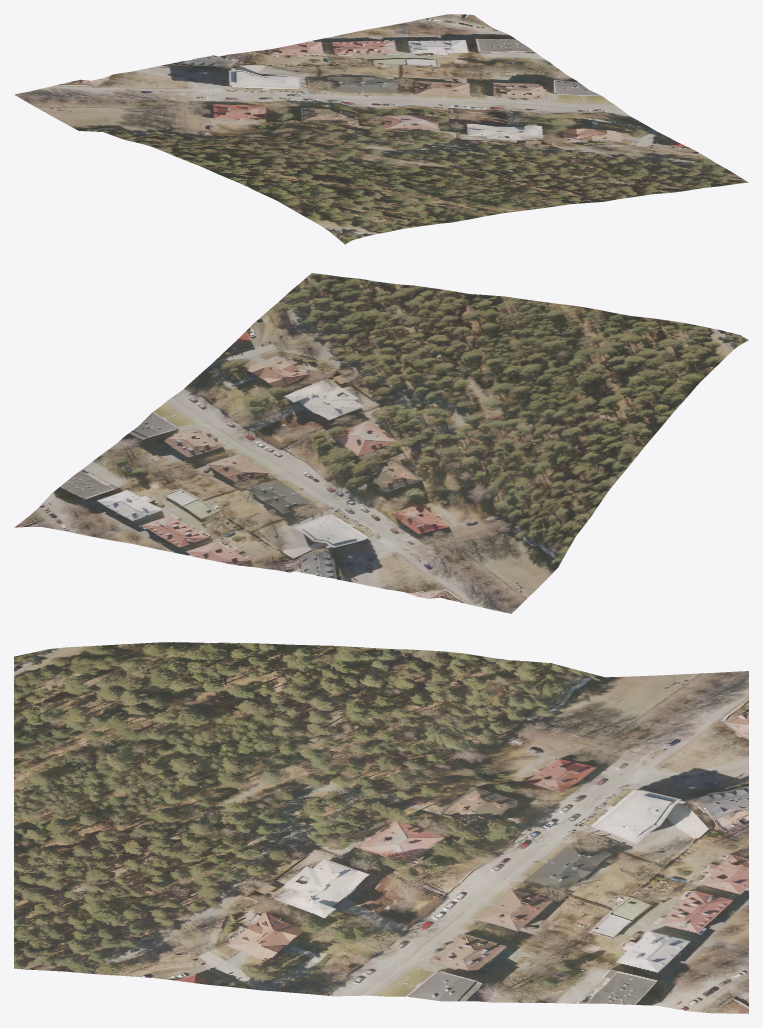
The model's file is CM_Terrain_24485954_6820613.fbx.
3 views of the same model, one above another, from view 1: azimuth 30°, elevation 25°; view 2: azimuth 150°, elevation 25°; view 3: azimuth 270°, elevation 25° (orthographic). The views are drawn at different scales.
Parts seen in each view (by area): view 1: CM_Terrain_24485954_6820613_LOD0; view 2: CM_Terrain_24485954_6820613_LOD0; view 3: CM_Terrain_24485954_6820613_LOD0.
Boxes of the visible parts, <box> form: CM_Terrain_24485954_6820613_LOD0: <box>14,14,748,244</box>; CM_Terrain_24485954_6820613_LOD0: <box>14,273,748,613</box>; CM_Terrain_24485954_6820613_LOD0: <box>14,642,748,1013</box>.
Size of what is drawn, in the model's own units: 198 by 31.06 by 205.
